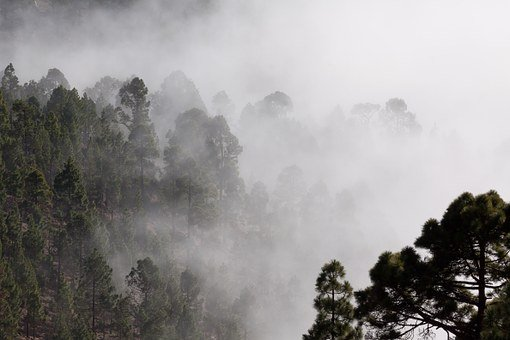mountain: (5, 64, 498, 340)
tree: (318, 189, 506, 340)
